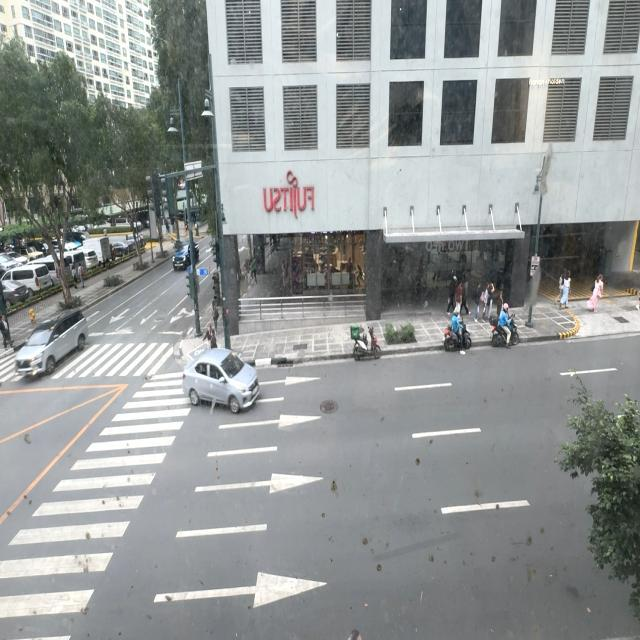waiting: (204, 323, 216, 348), (212, 306, 218, 334), (210, 330, 218, 350)
